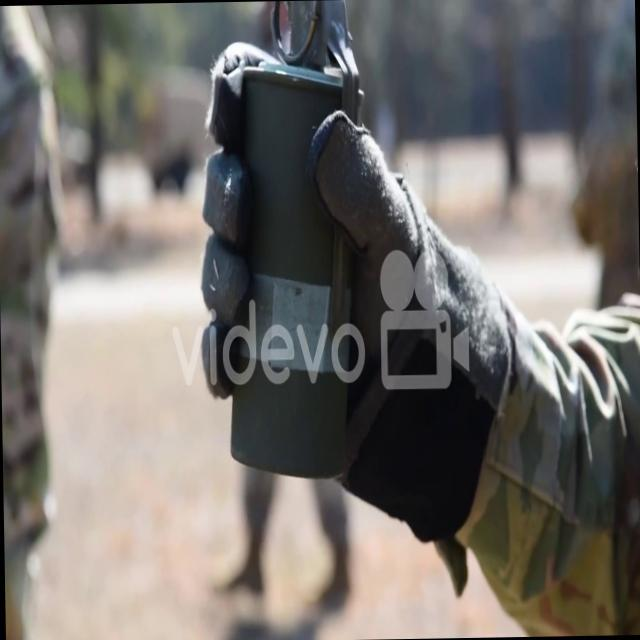grenade: (215, 0, 365, 477)
